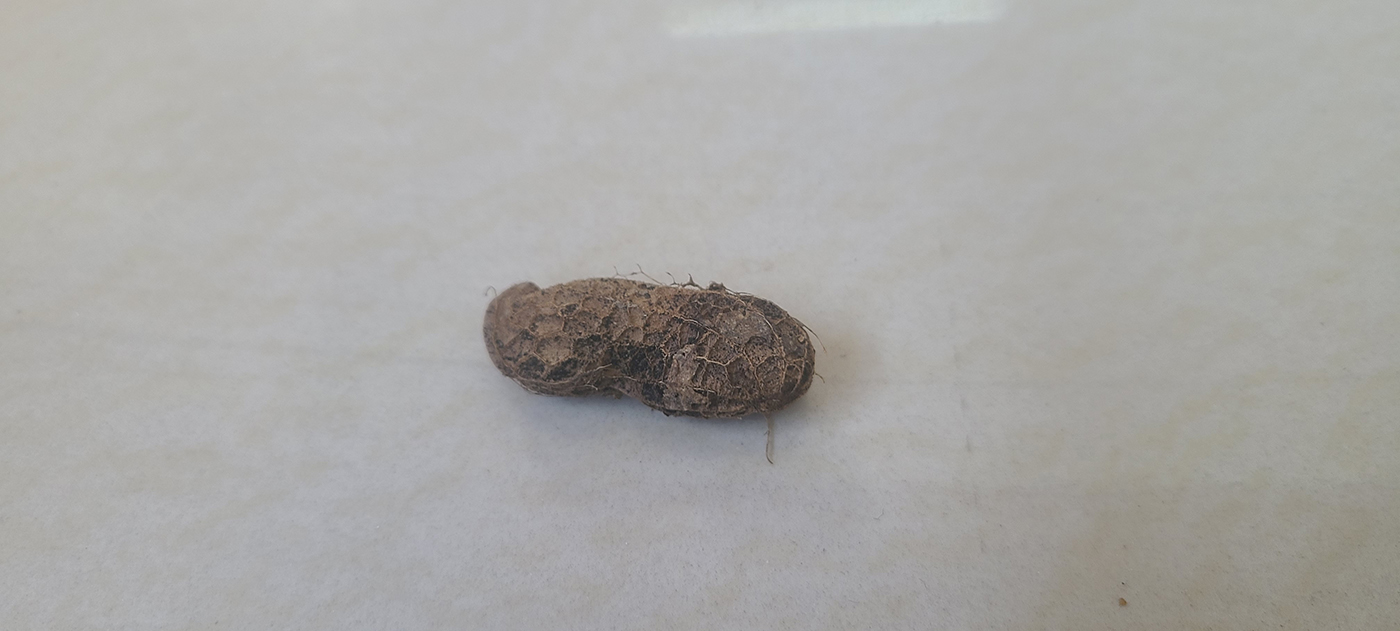l: (480, 269, 816, 424)
